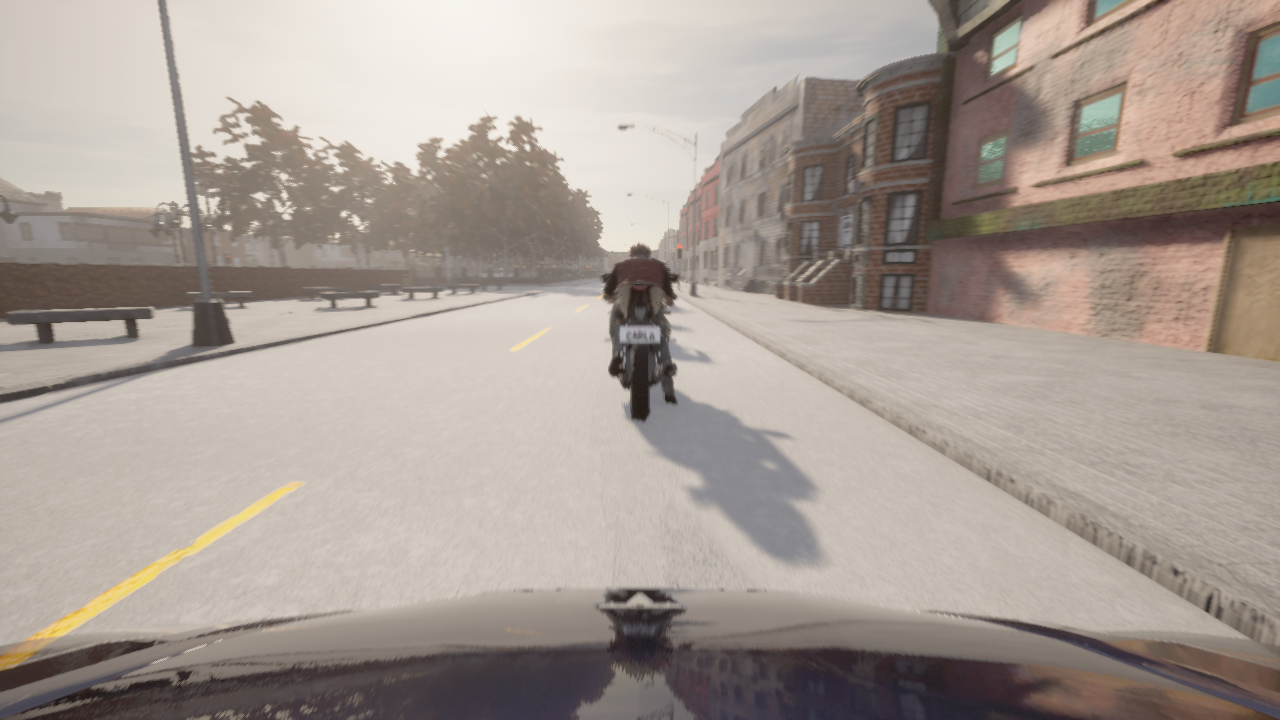cyclist: (0, 588, 1279, 719), (600, 275, 679, 420), (667, 269, 673, 306)
pedestrian: (402, 275, 409, 296), (380, 266, 382, 268)
